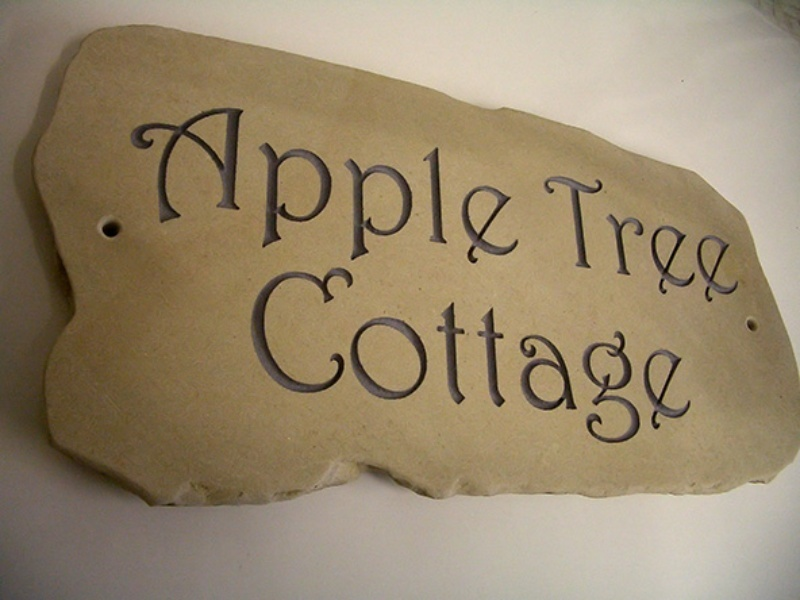text: (257, 252, 272, 456), (273, 252, 288, 456), (289, 252, 304, 456), (305, 252, 320, 456), (321, 252, 336, 456), (337, 252, 352, 456), (353, 252, 368, 456), (369, 252, 384, 456), (385, 252, 400, 456), (401, 252, 416, 456), (417, 252, 432, 456), (433, 252, 448, 456), (449, 252, 464, 456), (465, 252, 480, 456), (481, 252, 496, 456), (497, 252, 512, 456), (513, 252, 528, 456), (529, 252, 544, 456), (545, 252, 560, 456), (561, 252, 576, 456), (577, 252, 592, 456), (593, 252, 608, 456), (609, 252, 624, 456), (625, 252, 640, 456), (641, 252, 656, 456), (657, 252, 672, 456), (673, 252, 688, 456), (129, 91, 144, 283), (145, 91, 160, 283), (161, 91, 176, 283), (177, 91, 192, 283), (193, 91, 208, 283), (209, 91, 224, 283), (225, 91, 240, 283), (241, 91, 256, 283), (257, 91, 272, 283), (273, 91, 288, 283), (289, 91, 304, 283), (305, 91, 320, 283), (321, 91, 336, 283), (337, 91, 352, 283), (353, 91, 368, 283), (369, 91, 384, 283), (385, 91, 400, 283), (401, 91, 416, 283), (417, 91, 432, 283), (433, 91, 448, 283), (449, 91, 464, 283), (465, 91, 480, 283), (481, 91, 496, 283), (497, 91, 512, 283), (545, 164, 560, 309), (561, 164, 576, 309), (577, 164, 592, 309), (593, 164, 608, 309), (609, 164, 624, 309), (625, 164, 640, 309), (641, 164, 656, 309), (657, 164, 672, 309), (673, 164, 688, 309), (689, 164, 704, 309), (705, 164, 720, 309), (721, 164, 736, 309), (513, 91, 522, 283), (249, 252, 256, 456), (689, 252, 694, 456), (737, 164, 742, 309), (540, 164, 544, 309)
